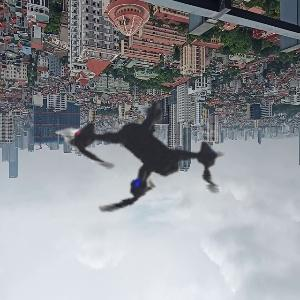drone: (1, 6, 295, 300)
